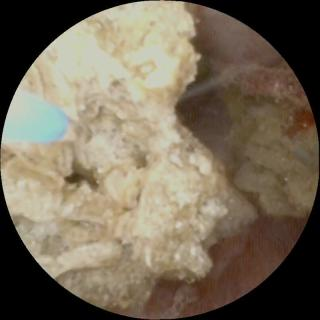fiber: (6, 91, 67, 142)
stone: (5, 3, 255, 304), (224, 87, 315, 217)
